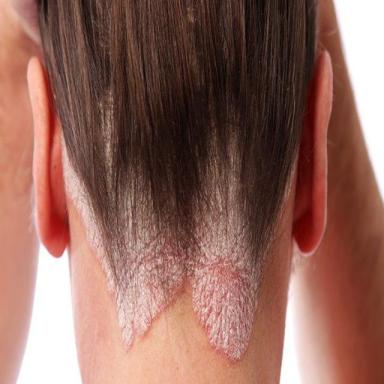Psoriasis: (62, 131, 276, 369)
